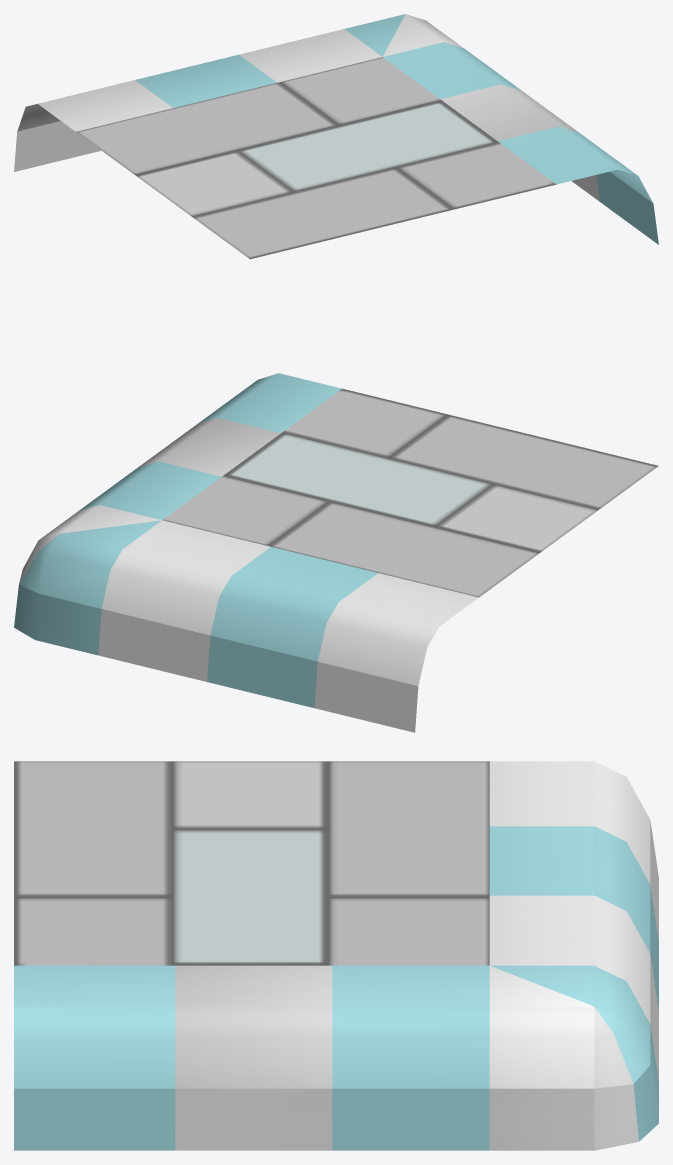
Rendered from Mod_TileWalk_03.fbx.
The picture shows the model from 3 angles, top to bottom: view 1: azimuth 30°, elevation 25°; view 2: azimuth 150°, elevation 25°; view 3: azimuth 270°, elevation 25°; orthographic projection. The views are drawn at different scales.
Visible parts, largest first — view 1: Mod_TileWalk_03; view 2: Mod_TileWalk_03; view 3: Mod_TileWalk_03.
Part boxes in pixels (bbox=[...]): Mod_TileWalk_03: bbox=[14, 14, 658, 259]; Mod_TileWalk_03: bbox=[14, 373, 658, 732]; Mod_TileWalk_03: bbox=[14, 761, 658, 1150].
Size of the model in its own units: 100 by 20 by 100.
